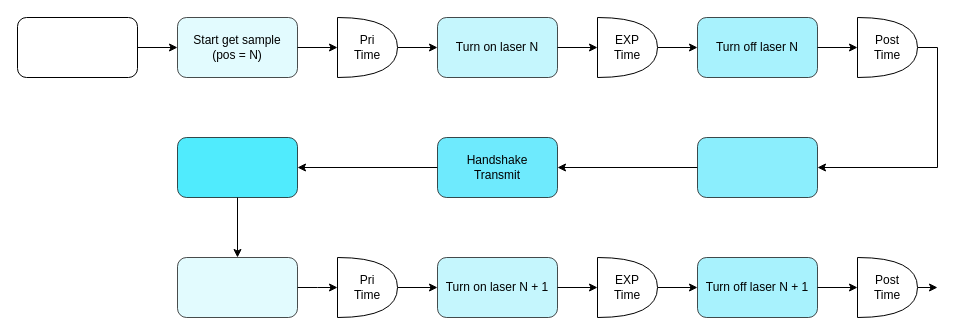
The diagram is 963 pixels wide and 335 high, and some of its shapes have lost their labels. The box of each missing label's shape, as (x1, y1, x2, y2) in pixels:
Set DAC: (16, 16, 138, 78)
Start get sample (pos = N + 1): (176, 256, 298, 318)
Stop get sample: (696, 136, 818, 198)
Transmit: (176, 136, 298, 198)
